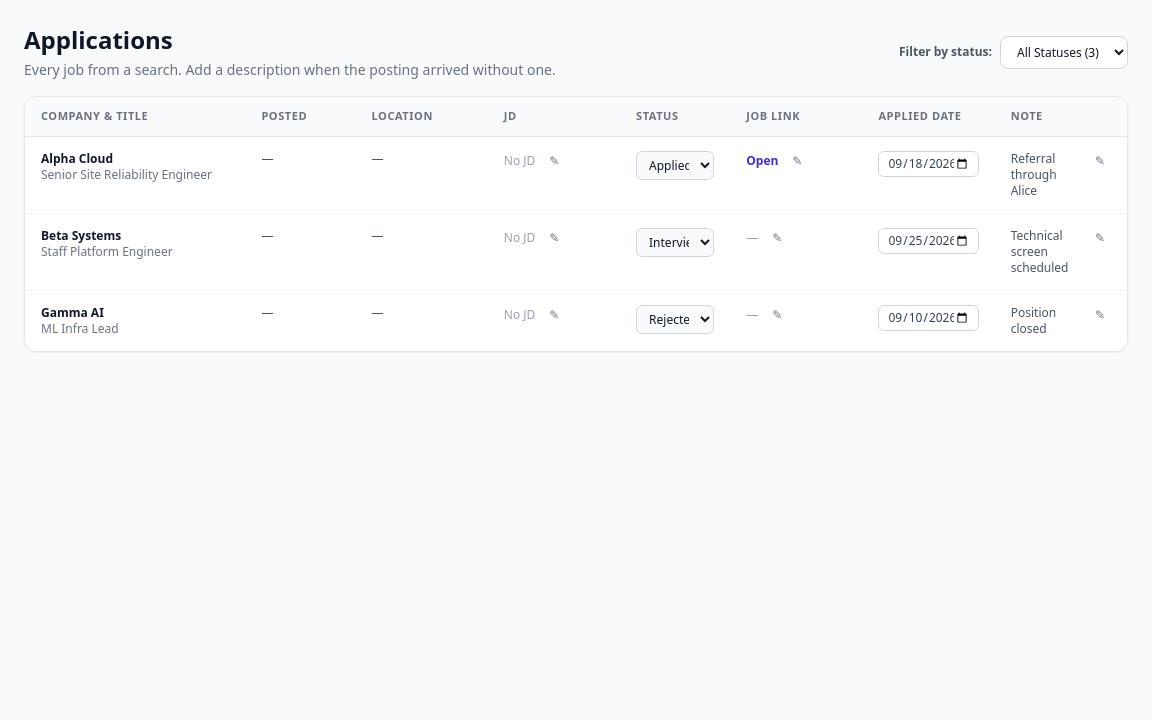
Test: ApplicationsPage (Phase 5c-2a) › updates status inline and displays success toast
Expected: the text "Alpha Cloud" is shown, x1=41 y1=150 x2=113 y2=167
Change status to 'interview'
Select "Interview" in the dropdown named "Change status for Alpha Cloud": (675, 165) x1=636 y1=151 x2=714 y2=180
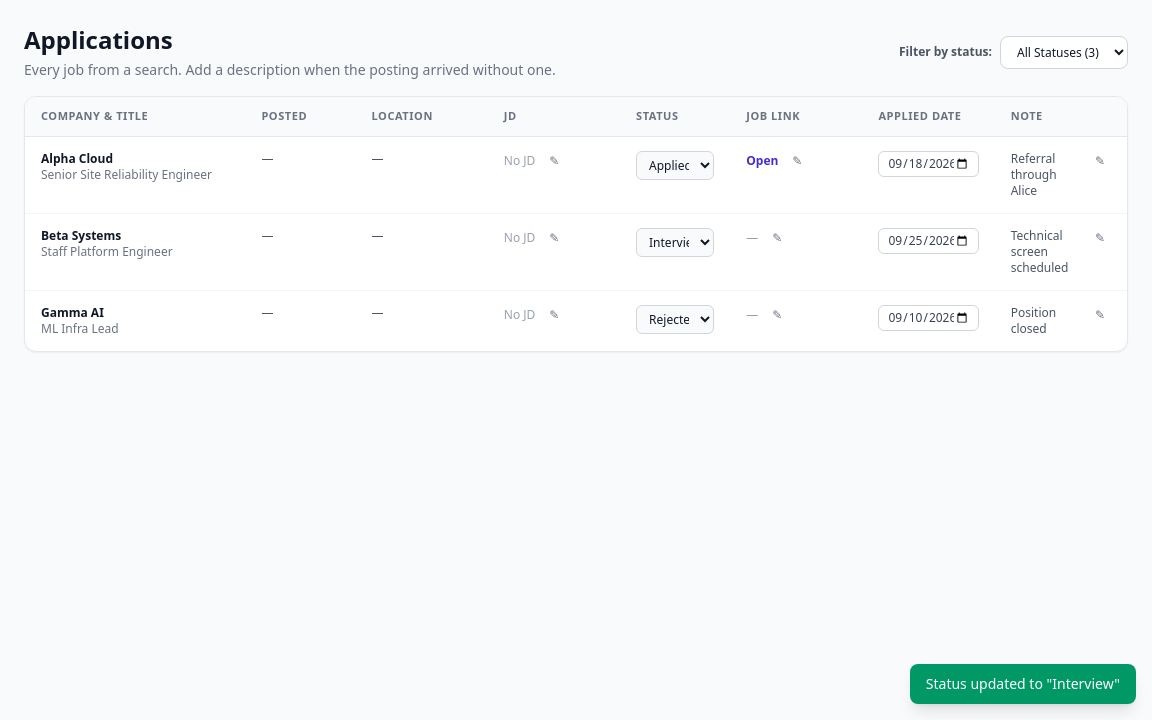
Expected: the text "Status updated to \"Interview\"" is shown, x1=926 y1=674 x2=1120 y2=694
